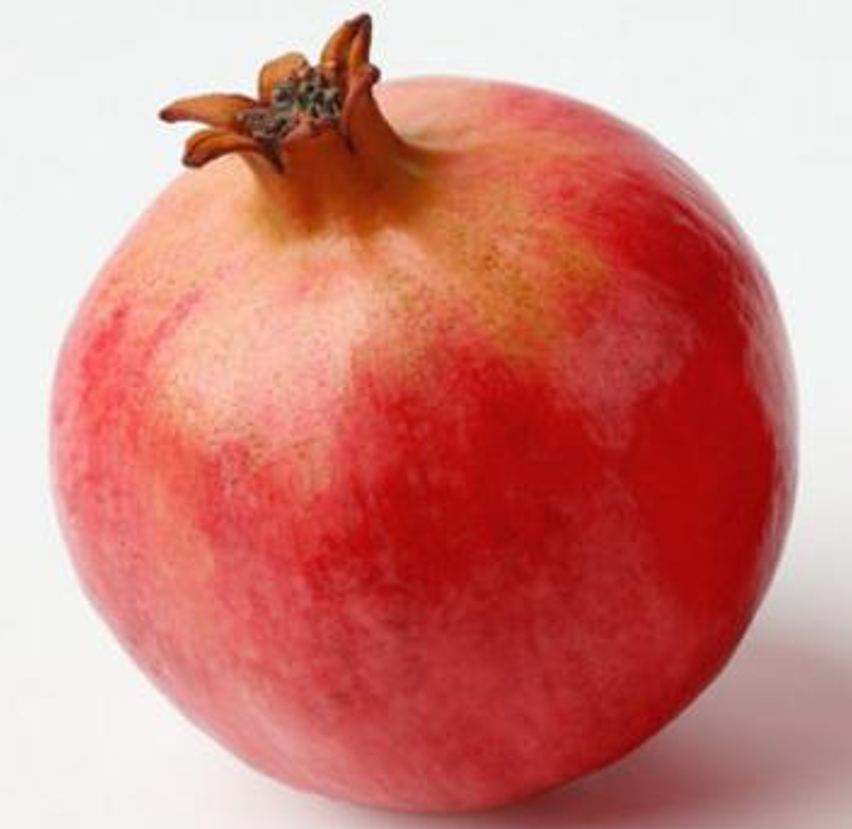pomegranate_A: (49, 13, 800, 813)
